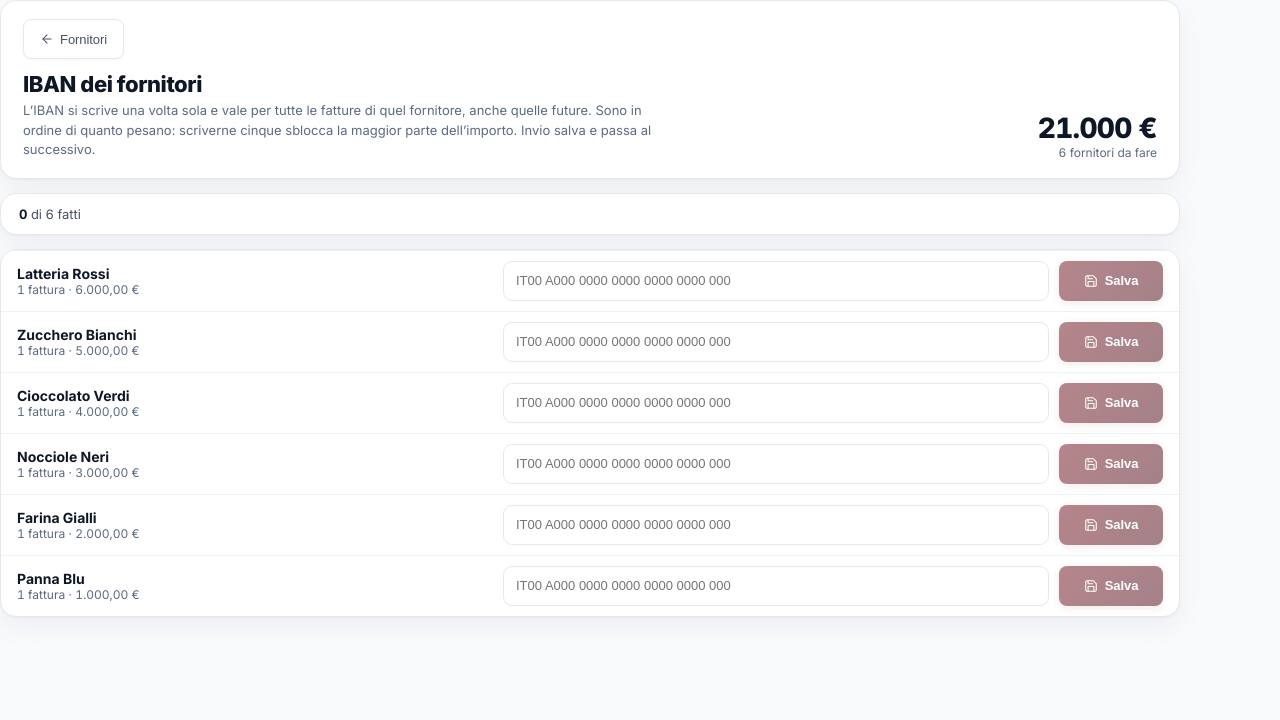
it: la pagina degli IBAN si scrive tutta di fila › la riga salvata resta al suo posto, segnata come fatta
The width and height of the screenshot is (1280, 720).
Type "IT60X0542811101000000123456" into the field with placeholder "IT00 A000 0000 0000 0000 0000 000" in the row of "6.000,00 €" at (776, 280), box [503,260,1049,300]
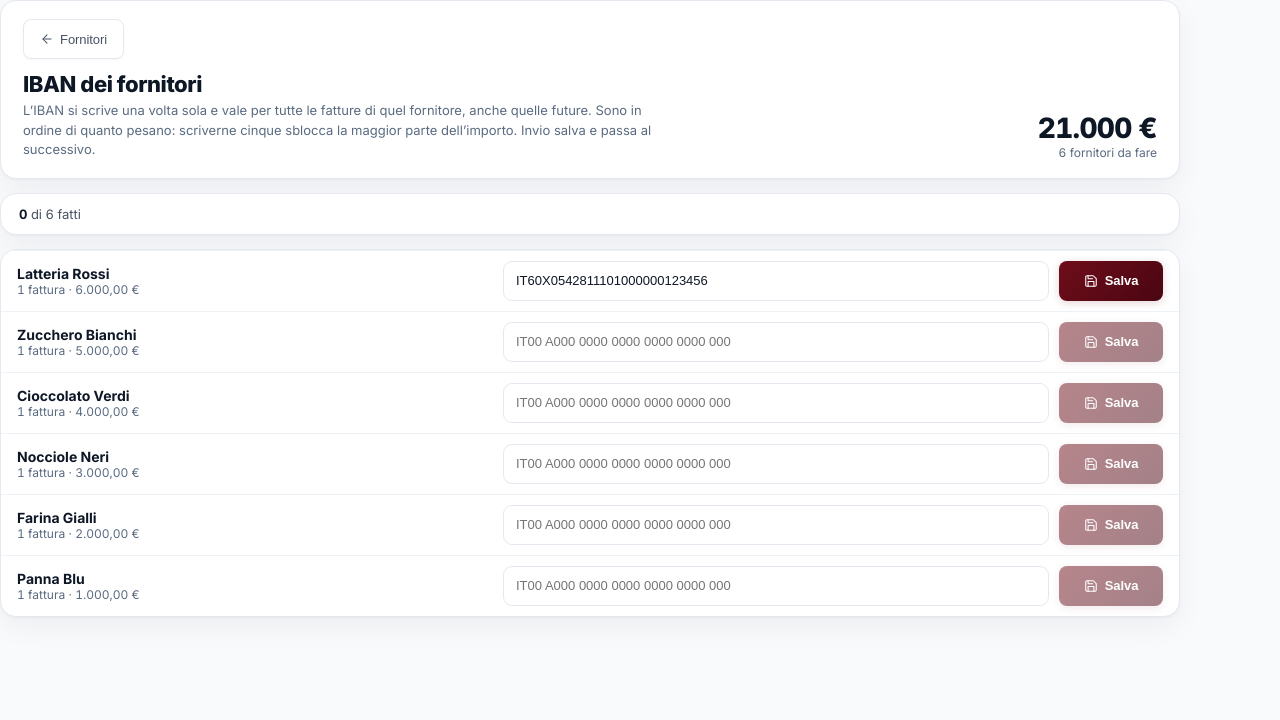
Press Enter in the field named "IBAN di Latteria Rossi", box [503,260,1049,300]
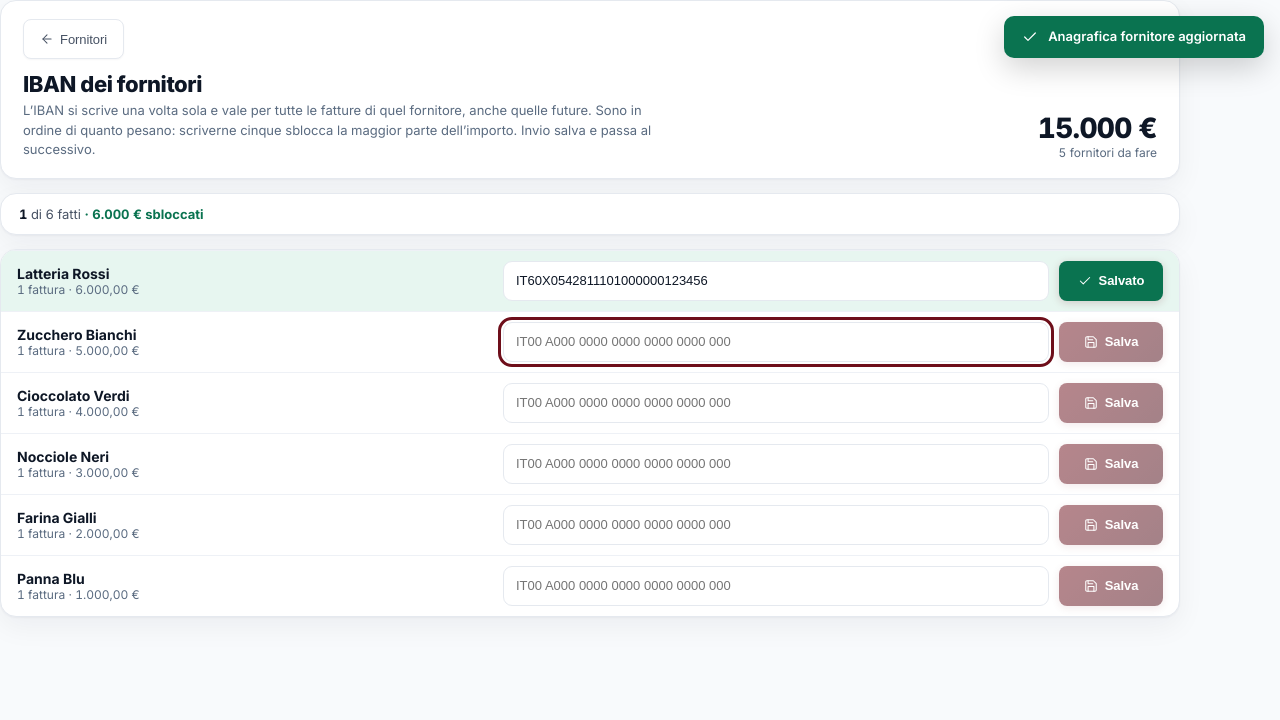
Check: the text "Latteria Rossi" is shown, box [17,264,110,282]
Check: the text "Salvato" is shown, box [1059,260,1163,300]
Check: the text "1 di 6 fatti · 6.000 € sbloccati" is shown, box [0,192,1180,234]
